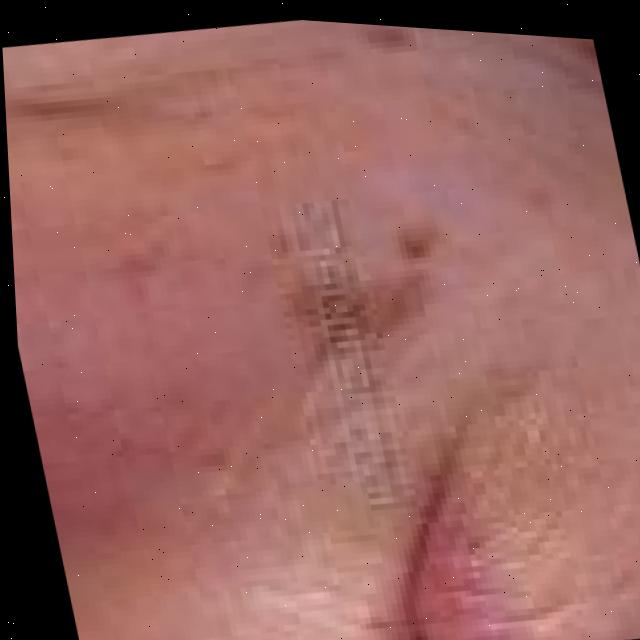Melasma: (262, 197, 460, 376)
